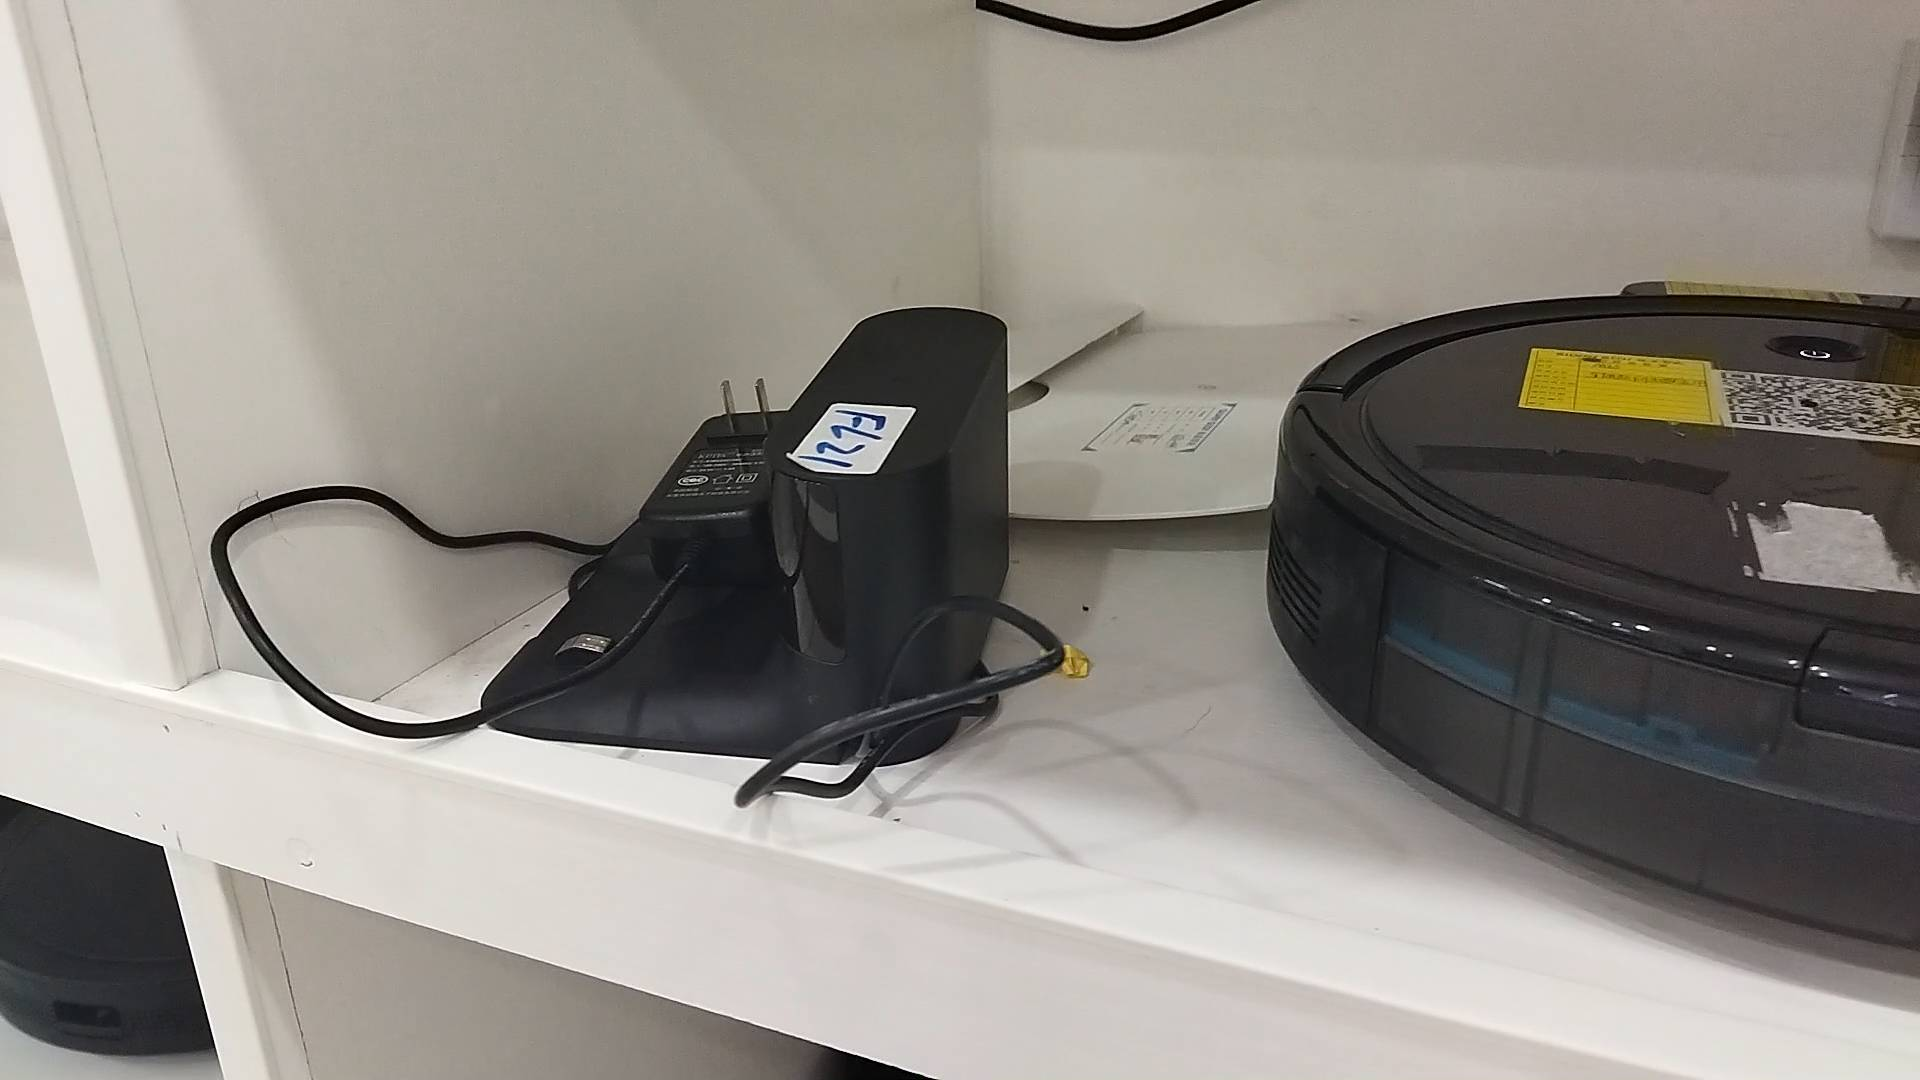recharge seat: (480, 305, 1014, 766)
